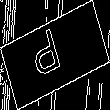P_S: (36, 25, 74, 85)
